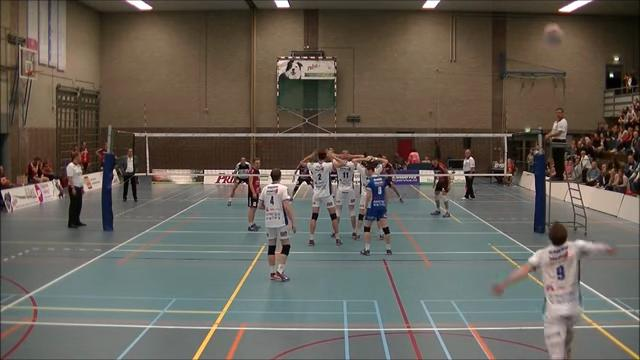battuta: (486, 213, 625, 359)
